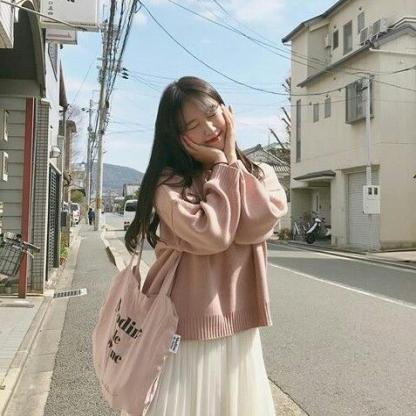person: (157, 74, 240, 163)
